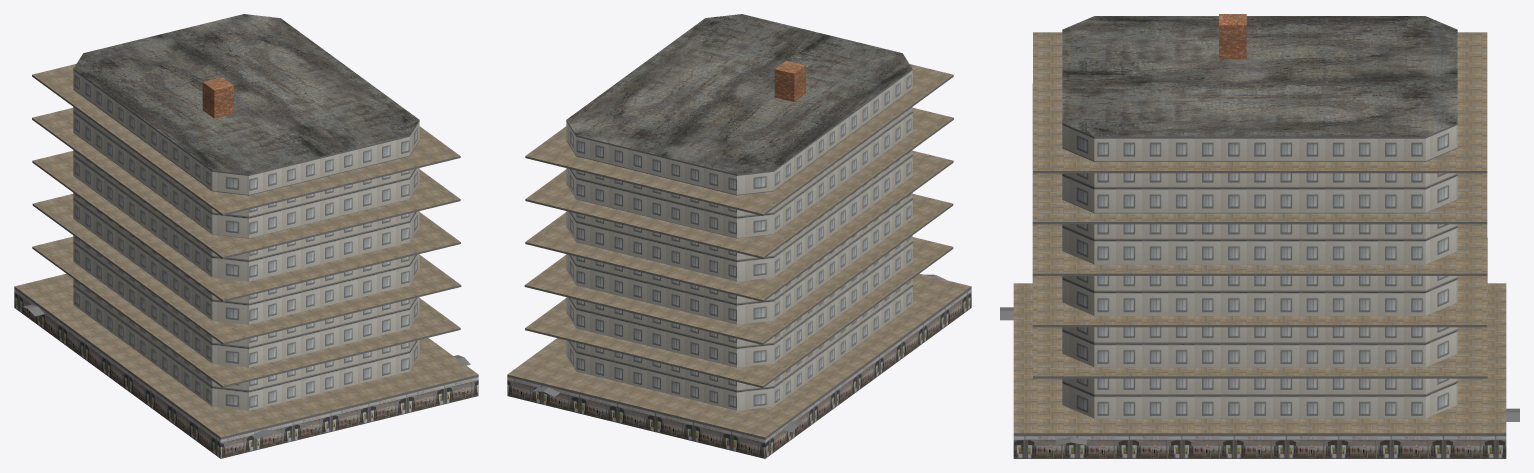
File: LOD01_Building_12stores_CommercialCentre.obj
The picture shows the model from 3 angles, left to right: view 1: azimuth 30°, elevation 25°; view 2: azimuth 150°, elevation 25°; view 3: azimuth 270°, elevation 25°; orthographic projection. The views are drawn at different scales.
Parts seen in each view (by area): view 1: LOD01_Building_12stores_CommercialCentre; view 2: LOD01_Building_12stores_CommercialCentre; view 3: LOD01_Building_12stores_CommercialCentre.
Part boxes in pixels (box(x1,y1,x2,y2)): LOD01_Building_12stores_CommercialCentre: box(14, 14, 478, 458); LOD01_Building_12stores_CommercialCentre: box(507, 14, 971, 458); LOD01_Building_12stores_CommercialCentre: box(1000, 14, 1519, 458).
Bounding box in the file's own units: 14.62 × 14.4 × 19.87.
